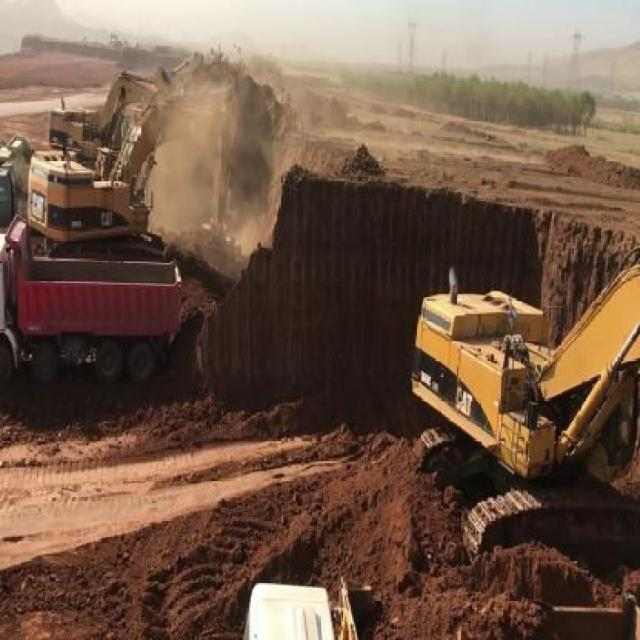dump_truck: (2, 240, 186, 388)
excavator: (407, 249, 639, 586), (28, 88, 248, 248), (41, 48, 207, 138)
